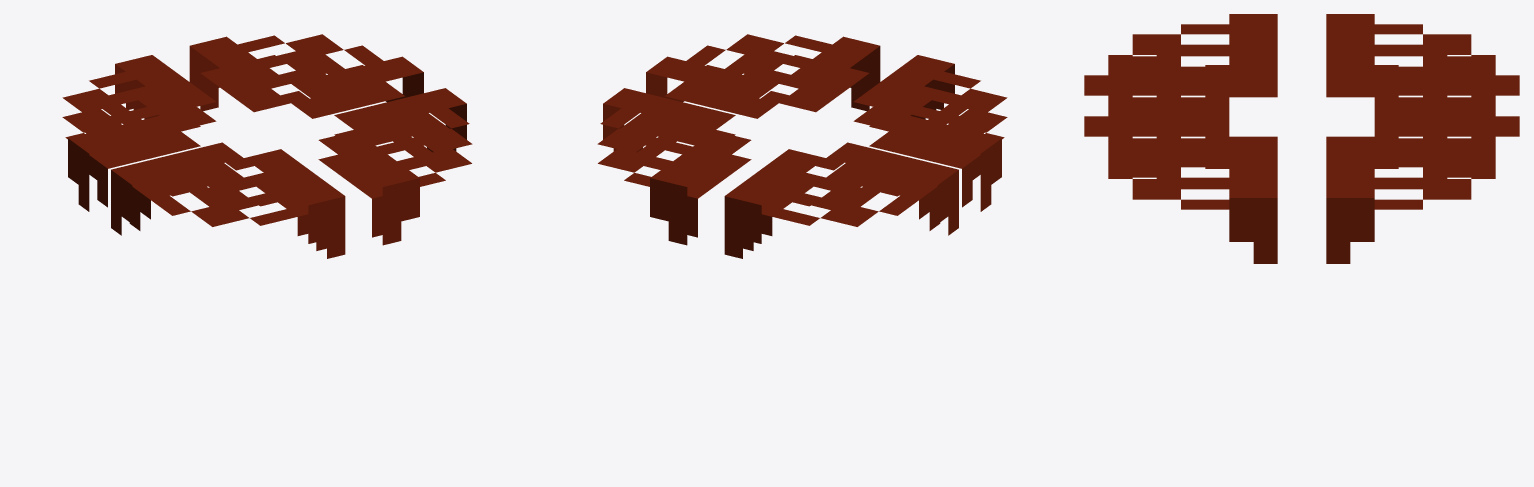
Rendered from Restable_5.obj.
3 views of the same model, side by side, from view 1: azimuth 30°, elevation 25°; view 2: azimuth 150°, elevation 25°; view 3: azimuth 270°, elevation 25° (orthographic). The views are drawn at different scales.
Bounding box in the file's own units: 1.8 × 1.3 × 1.8.
